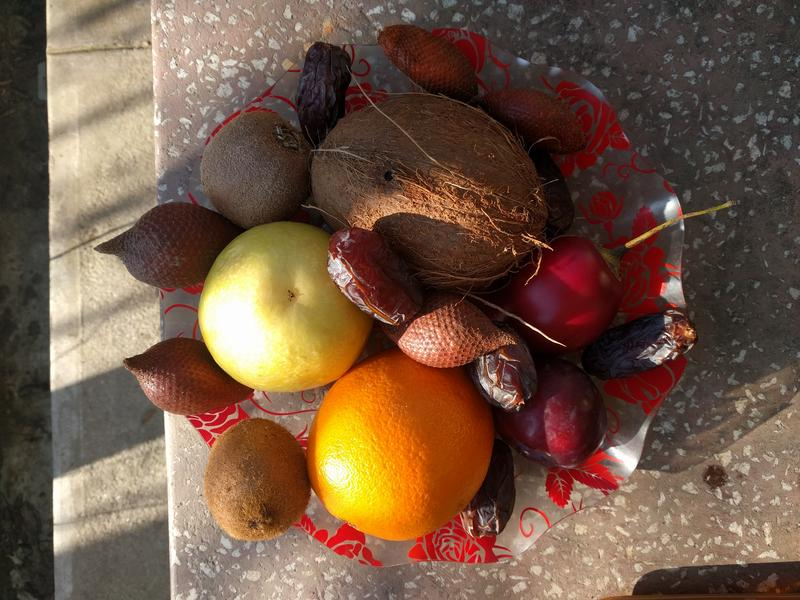orange: (304, 340, 519, 544)
